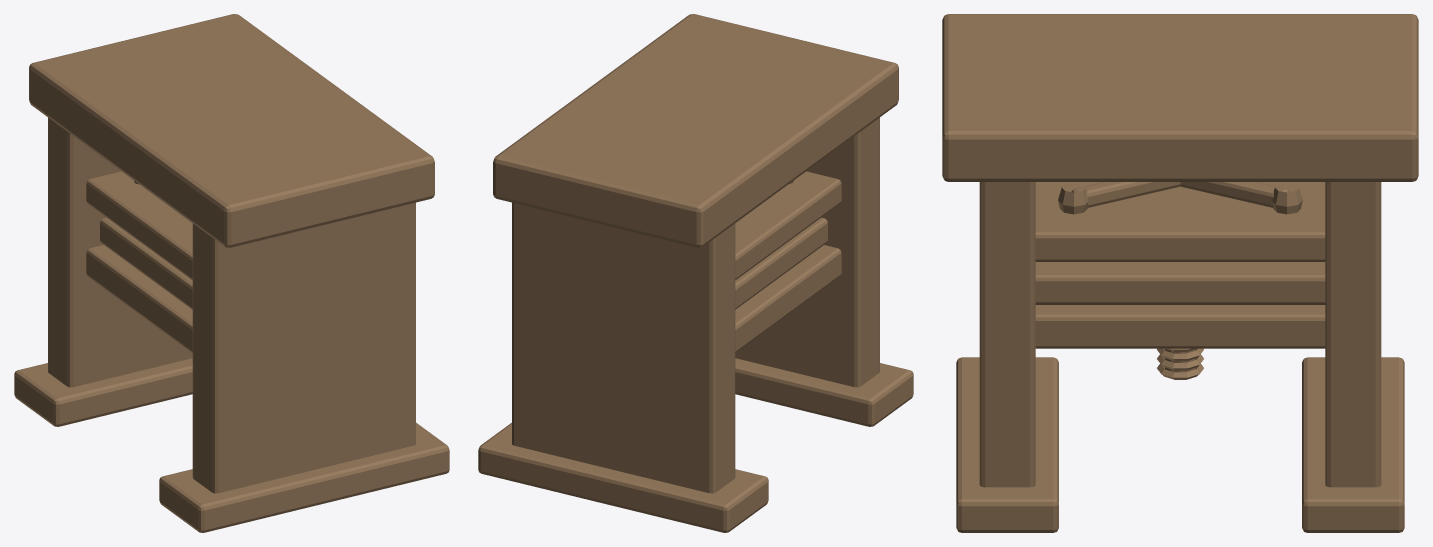
The model's file is monastery_book_press.glb.
The picture shows the model from 3 angles, left to right: view 1: azimuth 30°, elevation 25°; view 2: azimuth 150°, elevation 25°; view 3: azimuth 270°, elevation 25°; orthographic projection. The views are drawn at different scales.
Parts seen in each view (by area): view 1: world; view 2: world; view 3: world.
Boxes of the visible parts, box(x1,y1,x2,y2) form: world: box(14, 14, 449, 532); world: box(478, 14, 913, 532); world: box(942, 14, 1418, 532).
Bounding box in the file's own units: 1.45 × 1.8 × 2.
